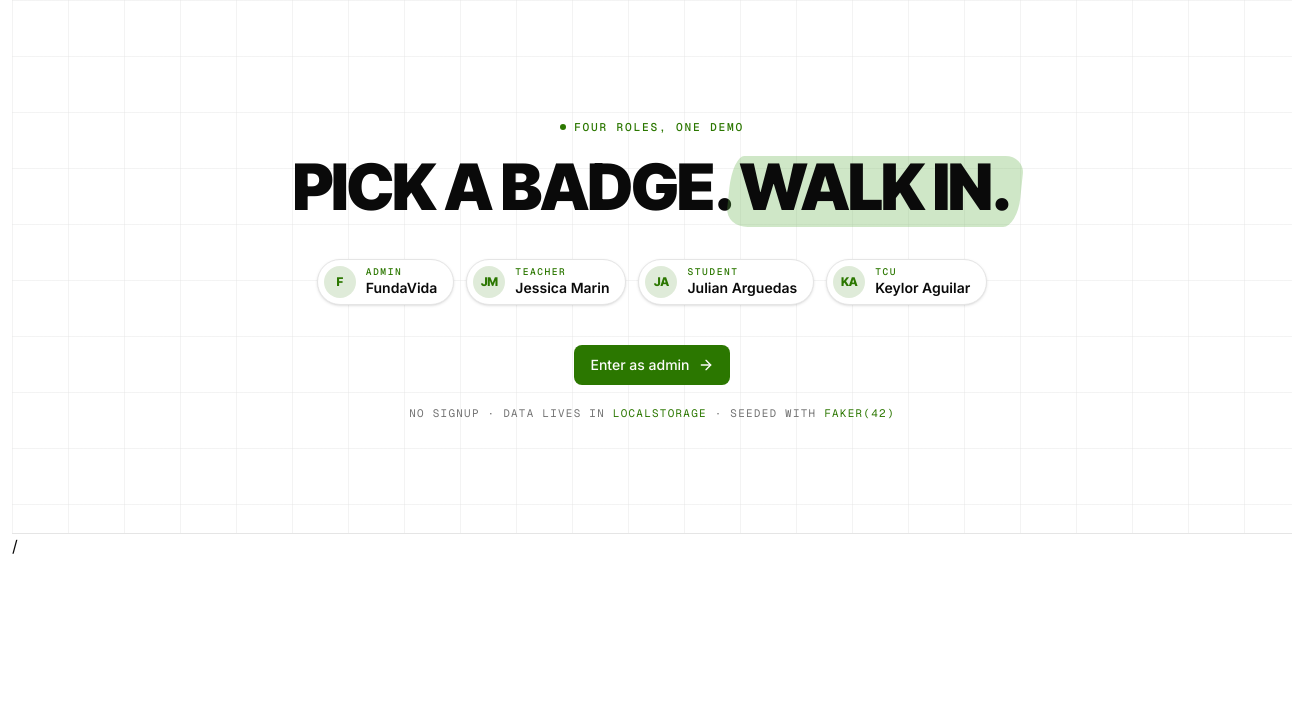
Scenario: FinalCTA › renders the admin fast-path CTA and navigates to /app
The width and height of the screenshot is (1292, 720).
Click the button "Enter as admin": (652, 365) [574,345,730,385]
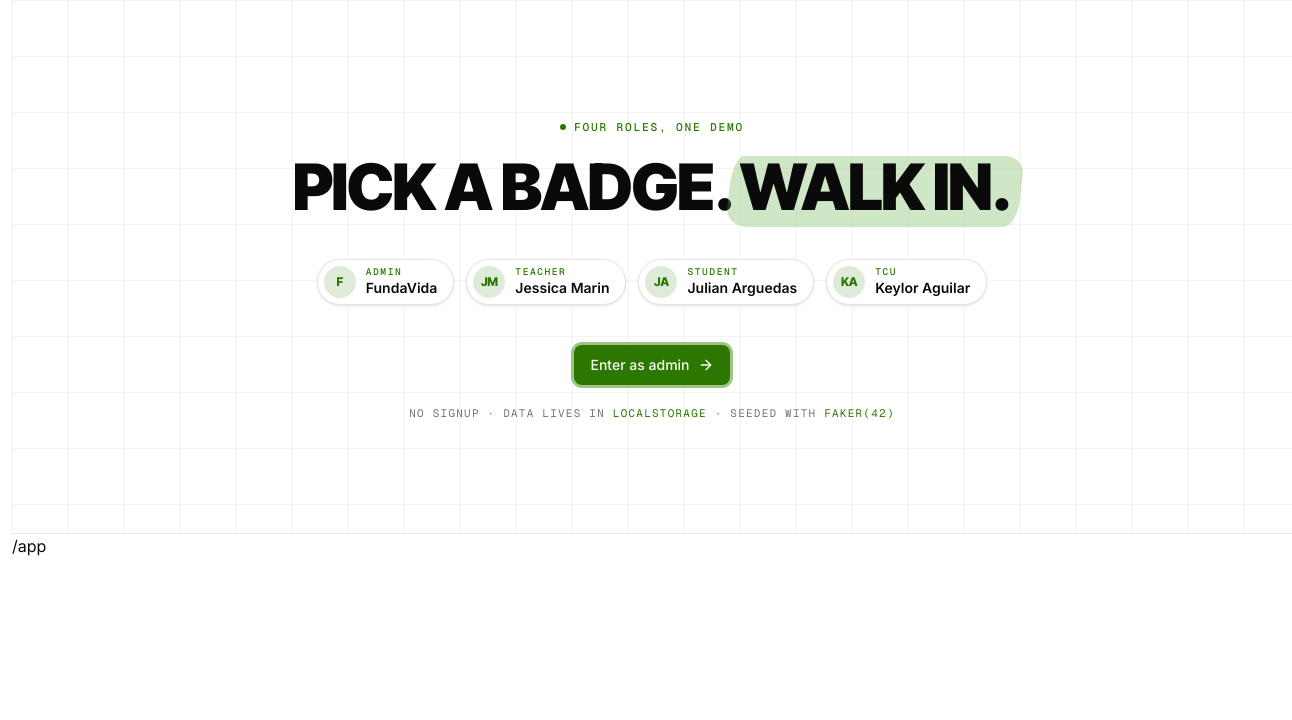
Check: the text with test id "location" reads "/app", box [12,536,46,556]
